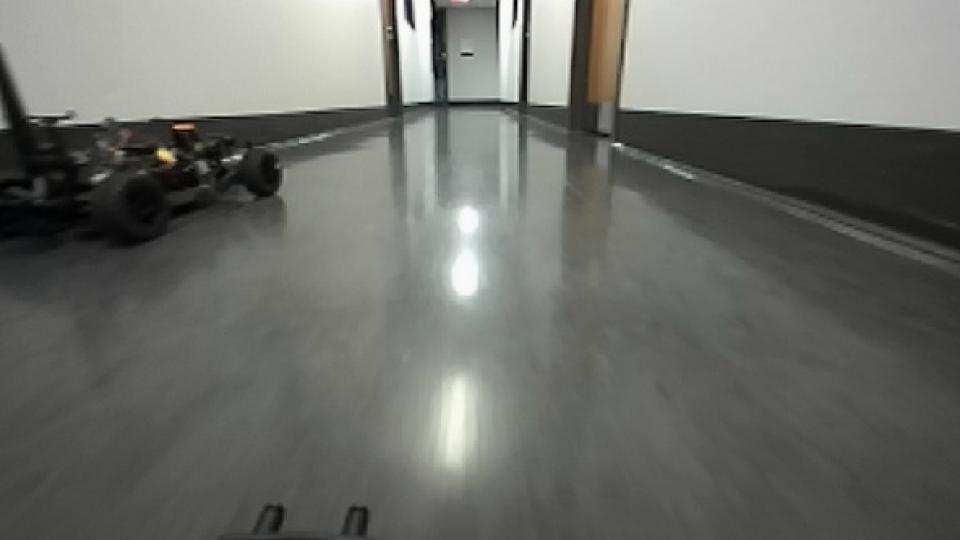car: (0, 34, 287, 247)
